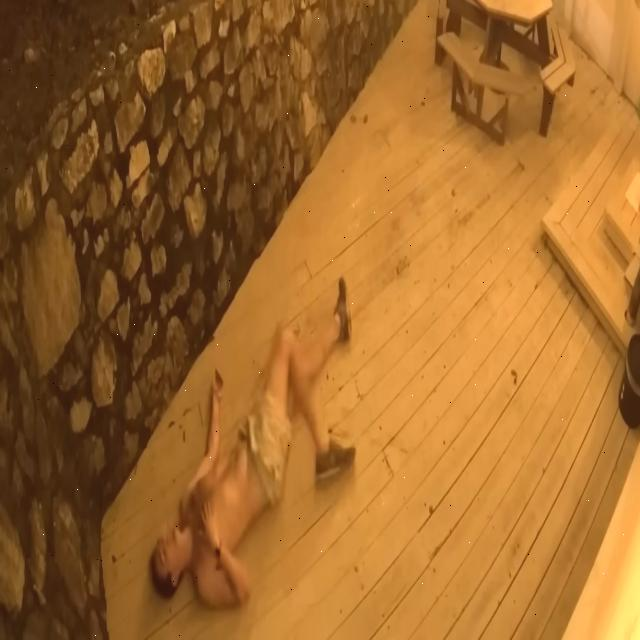fallen: (150, 277, 356, 607)
